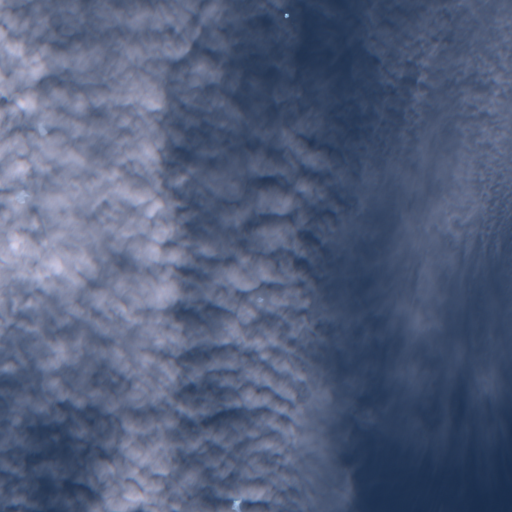Iceberg: (15, 190, 29, 203), (232, 498, 242, 511), (39, 124, 46, 135), (256, 297, 263, 301), (284, 13, 288, 18)
